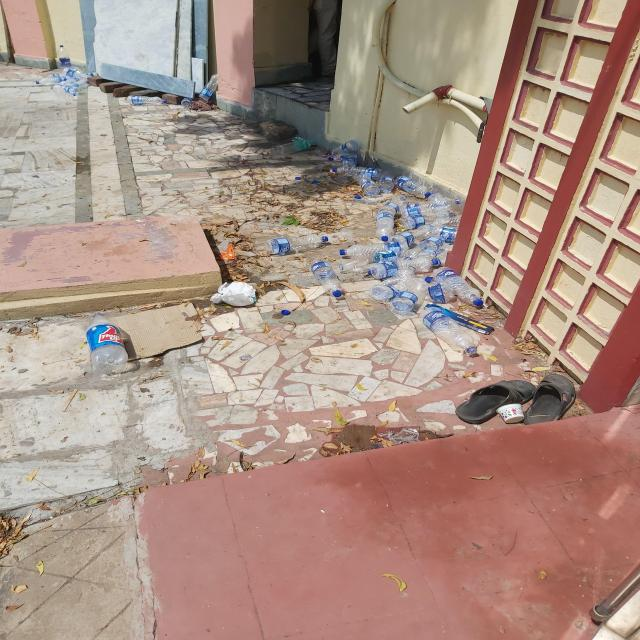litter: (47, 43, 487, 377), (212, 283, 260, 315), (371, 421, 422, 438), (501, 403, 527, 425), (269, 306, 296, 317)
